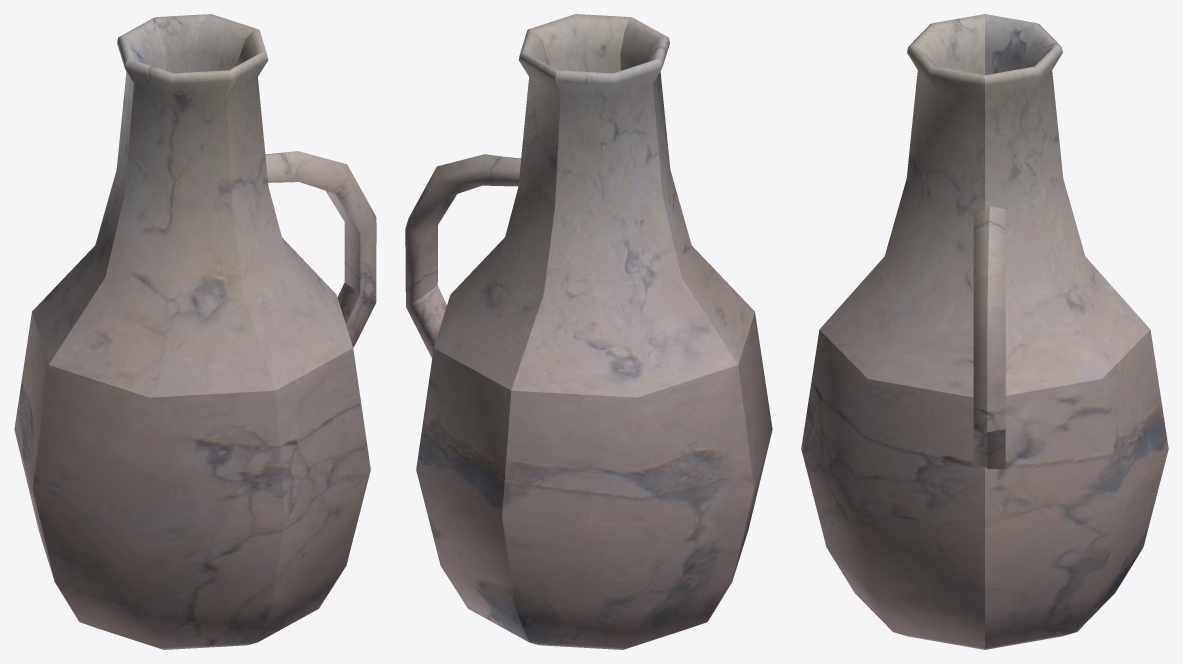
File: Mug_Bottle_Shards.glb
3 renders of one model, left to right at view 1: azimuth 30°, elevation 25°; view 2: azimuth 150°, elevation 25°; view 3: azimuth 270°, elevation 25°, orthographic.
Visible parts, largest first — view 1: Shard_0_0.001, Shard_0_1.001, Shard_1_1.001, Shard_1_0.001, Shard_3_1.001, Shard_2_1.001, Shard_3_0.001; view 2: Shard_3_0.001, Shard_3_1.001, Shard_2_1.001, Shard_2_0.001, Shard_0_1.001, Shard_1_1.001, Shard_0_0.001; view 3: Shard_1_0.001, Shard_2_0.001, Shard_1_1.001, Shard_2_1.001, Shard_0_1.001, Shard_3_1.001.
Boxes of the visible parts, bbox=[...] form: Shard_0_0.001: bbox=[33, 365, 284, 649]; Shard_0_1.001: bbox=[49, 59, 275, 397]; Shard_1_1.001: bbox=[226, 28, 376, 390]; Shard_1_0.001: bbox=[258, 294, 375, 641]; Shard_3_1.001: bbox=[32, 17, 166, 364]; Shard_2_1.001: bbox=[156, 14, 360, 293]; Shard_3_0.001: bbox=[14, 312, 53, 578]; Shard_3_0.001: bbox=[502, 365, 754, 649]; Shard_3_1.001: bbox=[511, 59, 737, 397]; Shard_2_1.001: bbox=[405, 28, 560, 390]; Shard_2_0.001: bbox=[406, 285, 528, 641]; Shard_0_1.001: bbox=[620, 17, 754, 364]; Shard_1_1.001: bbox=[507, 14, 630, 158]; Shard_0_0.001: bbox=[733, 312, 772, 578]; Shard_1_0.001: bbox=[801, 330, 987, 649]; Shard_2_0.001: bbox=[985, 330, 1168, 649]; Shard_1_1.001: bbox=[819, 44, 989, 431]; Shard_2_1.001: bbox=[985, 44, 1150, 432]; Shard_0_1.001: bbox=[909, 14, 984, 74]; Shard_3_1.001: bbox=[985, 14, 1060, 74].
Size of the model in its own units: 0.365 by 0.5682 by 0.3387.
Materials: 1 (1 with a texture image).
